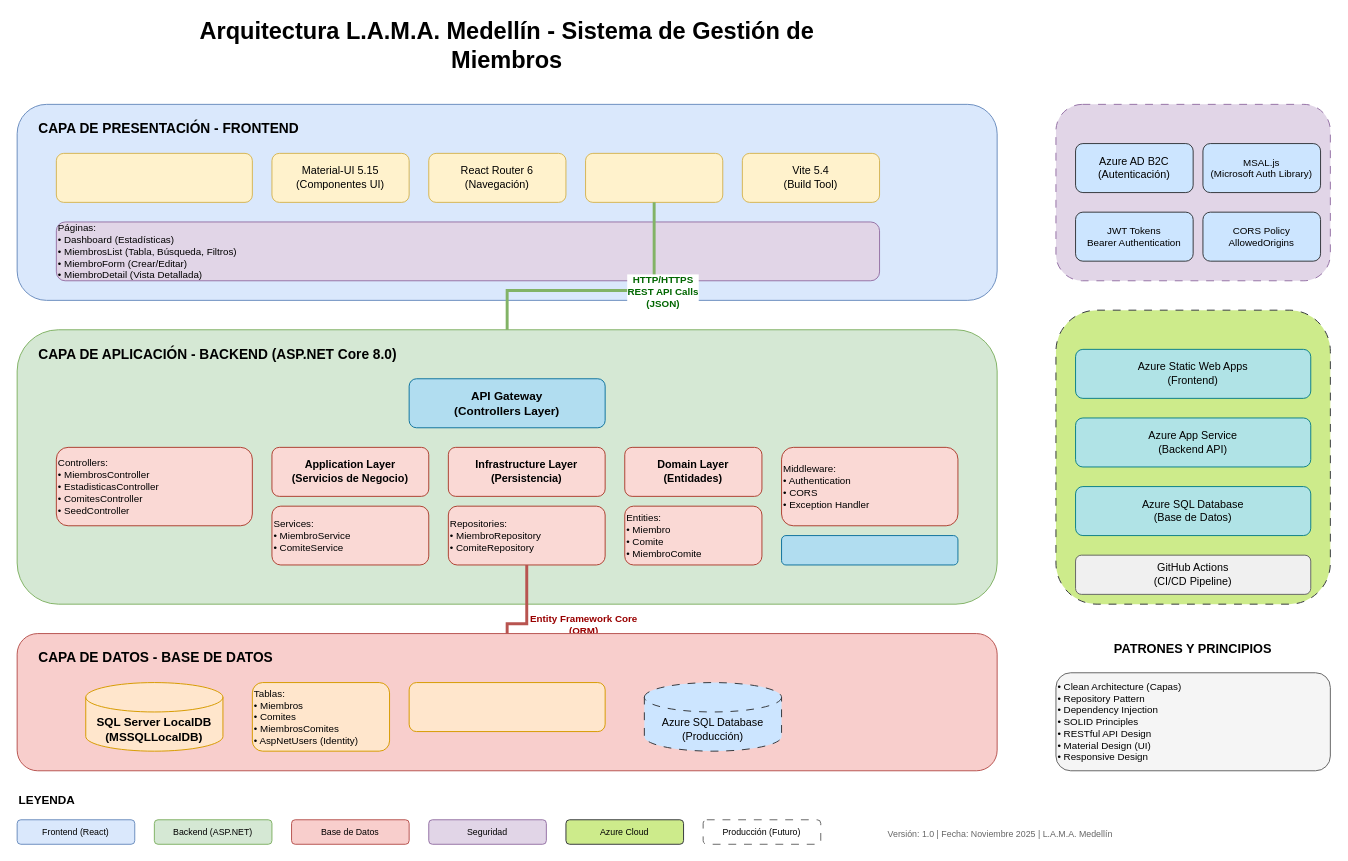
The diagram is 1348 pixels wide and 861 high, and some of its shapes have lost their labels. The shapes that lost their labels are listed below. From the top down, each one's box as (x1, y1, x2, y2) in pixels, then its label:
(55, 152, 252, 202): React 18.3 + TypeScript 5.3
(585, 152, 723, 202): Axios (HTTP Client)
(1055, 103, 1330, 281): SEGURIDAD Y AUTENTICACIÓN
(1055, 309, 1330, 604): DESPLIEGUE (AZURE)
(781, 535, 958, 565): Swagger/OpenAPI (Documentación)
(408, 682, 605, 732): Entity Framework Core 8.0 Code First + Migrations
